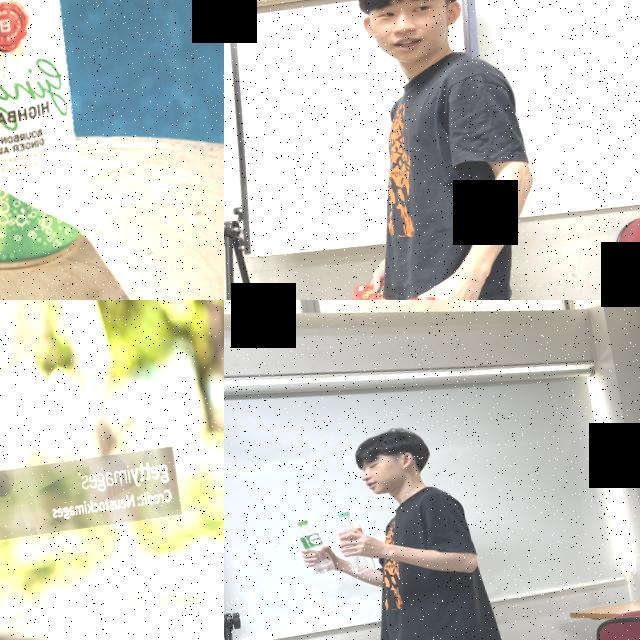bottle: (334, 508, 383, 577), (296, 515, 340, 580)
can: (0, 0, 100, 279), (394, 287, 486, 300)
